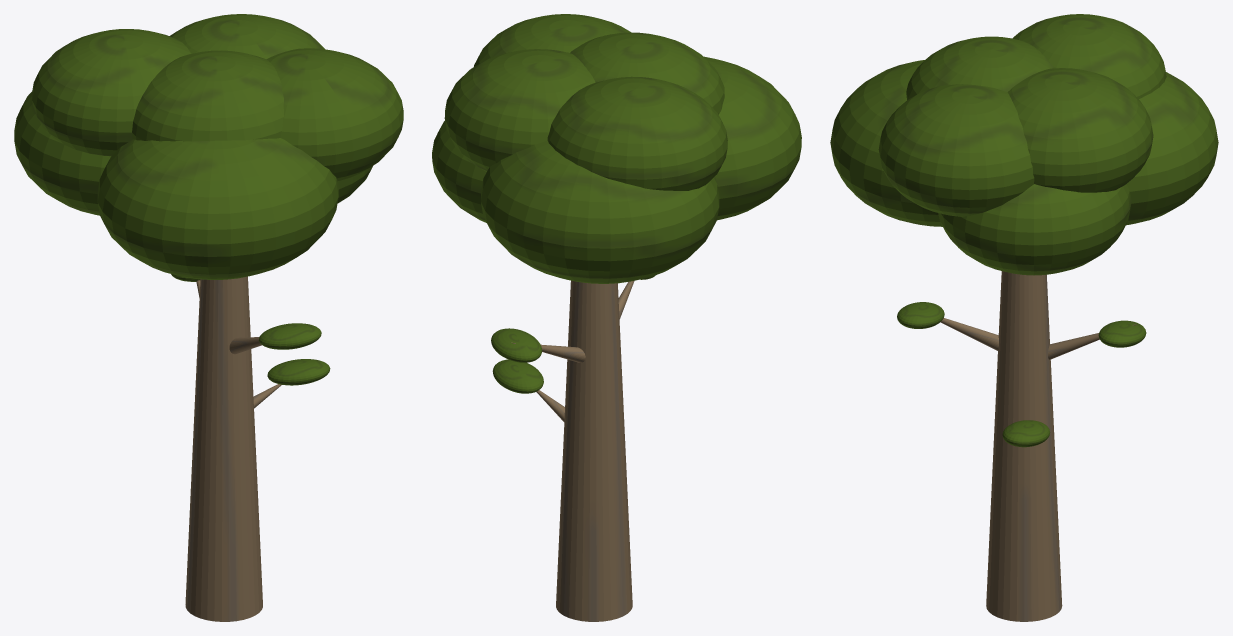
The model's file is ObjectBirchTree.dae.
3 renders of one model, left to right at view 1: azimuth 30°, elevation 25°; view 2: azimuth 150°, elevation 25°; view 3: azimuth 270°, elevation 25°, orthographic. The views are drawn at different scales.
Parts seen in each view (by area): view 1: Sphere.004, Cylinder, Sphere, Sphere.002, Sphere.006, Sphere.003, Sphere.005, Sphere.008, Sphere.007, Sphere.001; view 2: Sphere.003, Cylinder, Sphere, Sphere.005, Sphere.004, Sphere.006, Sphere.002, Sphere.001, Sphere.009, Sphere.007, Cone.002; view 3: Cylinder, Sphere.002, Sphere.005, Sphere.001, Sphere.003, Sphere.004, Sphere, Sphere.006, Sphere.009, Sphere.007, Sphere.008, Cone.001 (+1 smaller).
Part boxes in pixels (x1,y1,x2,y2): Sphere.004: (97, 138, 338, 279); Cylinder: (185, 276, 262, 621); Sphere: (32, 29, 191, 156); Sphere.002: (266, 48, 403, 181); Sphere.006: (132, 50, 283, 141); Sphere.003: (14, 91, 110, 215); Sphere.005: (169, 14, 324, 59); Sphere.008: (258, 323, 321, 349); Sphere.007: (267, 359, 330, 385); Sphere.001: (337, 166, 372, 203); Sphere.003: (481, 140, 719, 283); Cylinder: (556, 280, 632, 621); Sphere: (547, 76, 727, 190); Sphere.005: (444, 49, 595, 171); Sphere.004: (704, 56, 801, 220); Sphere.006: (570, 32, 724, 114); Sphere.002: (474, 14, 631, 66); Sphere.001: (432, 121, 486, 222); Sphere.009: (491, 328, 542, 362); Sphere.007: (492, 359, 543, 393); Cone.002: (511, 342, 585, 362); Cylinder: (986, 271, 1062, 621); Sphere.002: (878, 84, 1034, 216); Sphere.005: (1007, 68, 1153, 192); Sphere.001: (938, 184, 1131, 275); Sphere.003: (1126, 72, 1218, 225); Sphere.004: (830, 60, 942, 226); Sphere: (1012, 14, 1166, 98); Sphere.006: (906, 36, 1053, 100); Sphere.009: (1098, 320, 1146, 347); Sphere.007: (1002, 420, 1050, 447); Sphere.008: (897, 302, 944, 328); Cone.001: (940, 318, 998, 350).
Bounding box in the file's own units: 3.75 × 4.31 × 6.68.
Materials: 1 (1 with a texture image).
